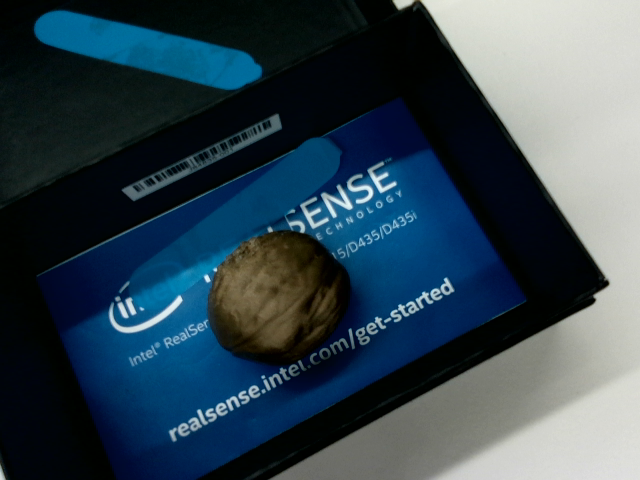walnut: (181, 204, 371, 394)
